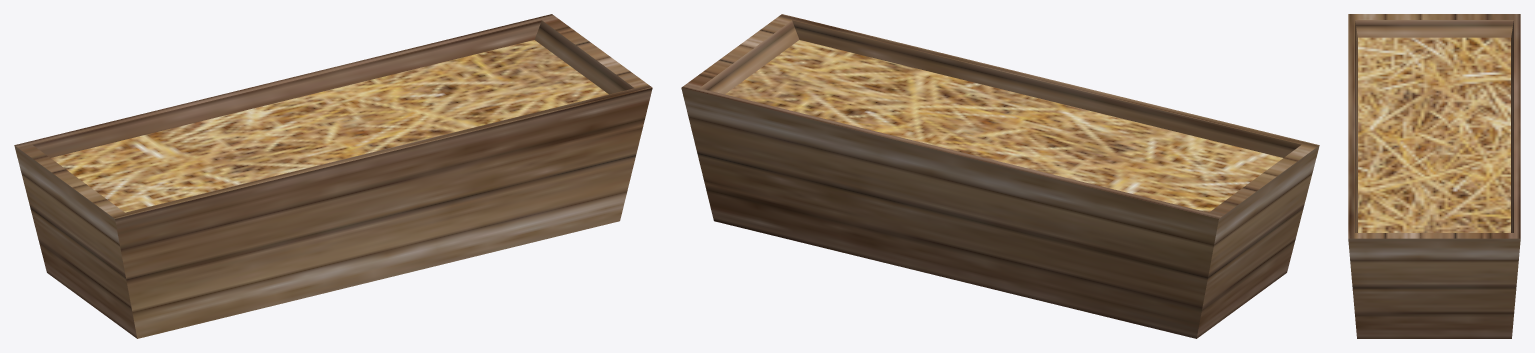
File: CUBETA.fbx
3 views of the same model, side by side, from view 1: azimuth 30°, elevation 25°; view 2: azimuth 150°, elevation 25°; view 3: azimuth 270°, elevation 25° (orthographic). The views are drawn at different scales.
Visible parts, largest first — view 1: CUBETA; view 2: CUBETA; view 3: CUBETA.
Part boxes in pixels (x1,y1,x2,y2): CUBETA: (14, 14, 652, 338); CUBETA: (681, 14, 1319, 338); CUBETA: (1348, 14, 1520, 338).
Size of the model in its own units: 200 by 46.39 by 64.89.
